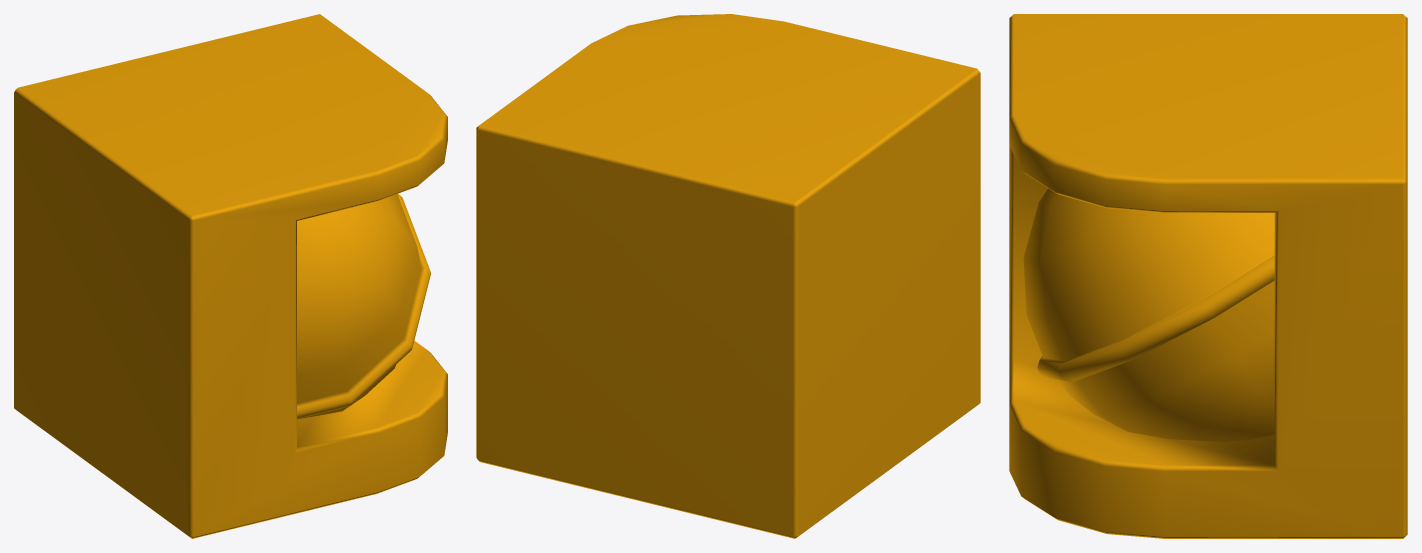
File: Bath bombs.fbx
3 views of the same model, side by side, from view 1: azimuth 30°, elevation 25°; view 2: azimuth 150°, elevation 25°; view 3: azimuth 270°, elevation 25° (orthographic). The views are drawn at different scales.
Parts seen in each view (by area): view 1: ball; view 2: ball; view 3: ball.
Boxes of the visible parts, x1,y1,x2,y2 form: ball: [14, 14, 447, 538]; ball: [476, 14, 980, 538]; ball: [1009, 14, 1407, 538].
Bounding box in the file's own units: 0.1784 × 0.1782 × 0.1784.
